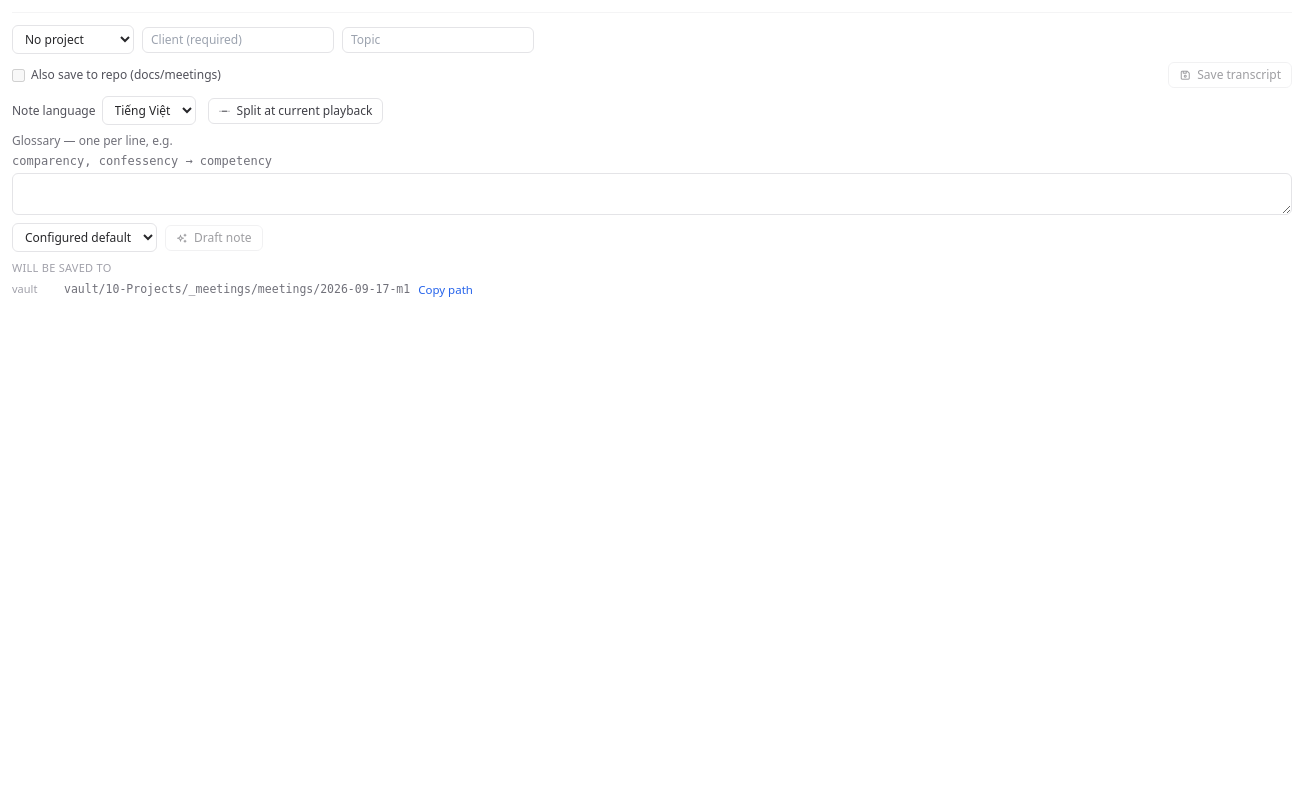
Test: AC-11 — defaults: Vietnamese, internal parts excluded, no parts › an untouched form drafts with language vi, includeInternal false and no parts
Select "Mantu · ABCV2" in the dropdown named "Project or workspace" at {"x": 73, "y": 40}, box [12, 25, 134, 54]
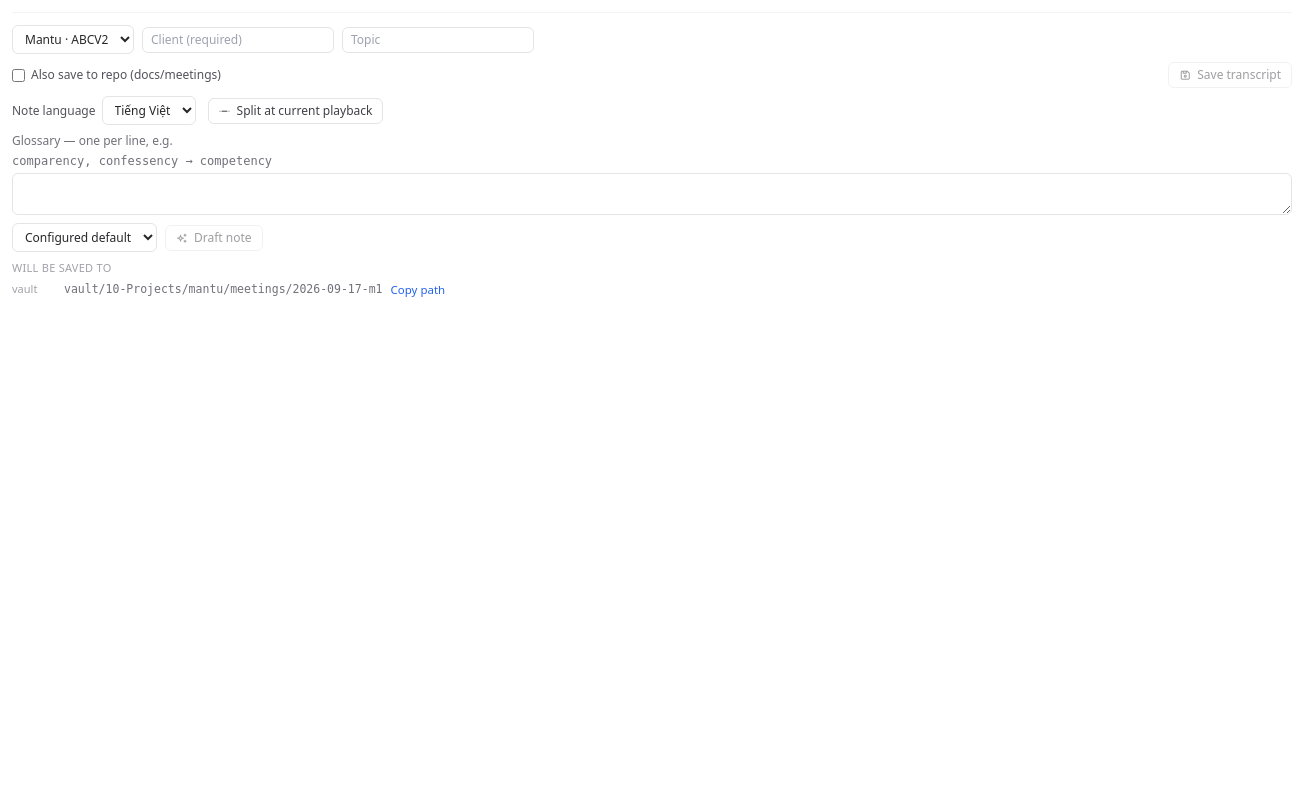
Type "Chị Kate" into the field labelled "Client".
click(238, 40); type("Chị Kate")  # box [142, 26, 334, 52]
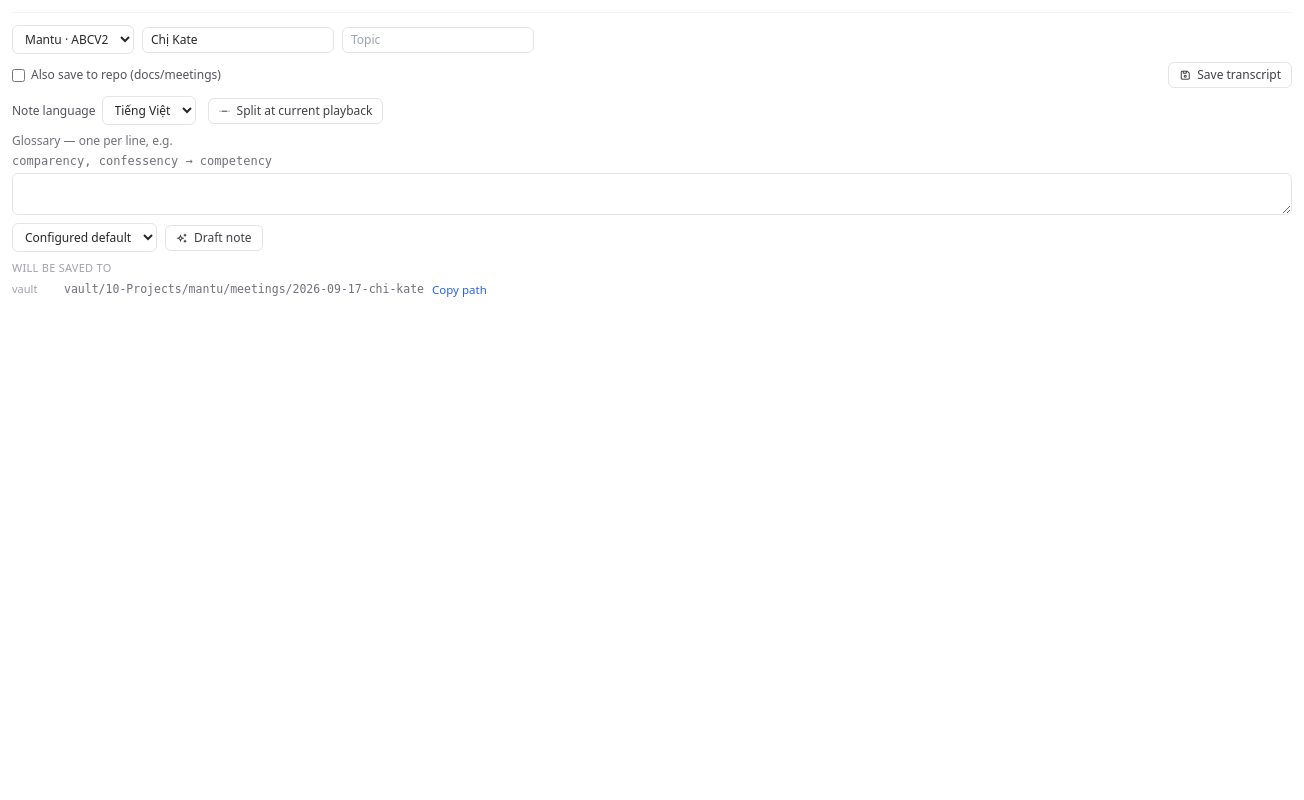
Click the button "Draft note".
click(214, 238)  # box [165, 224, 263, 250]
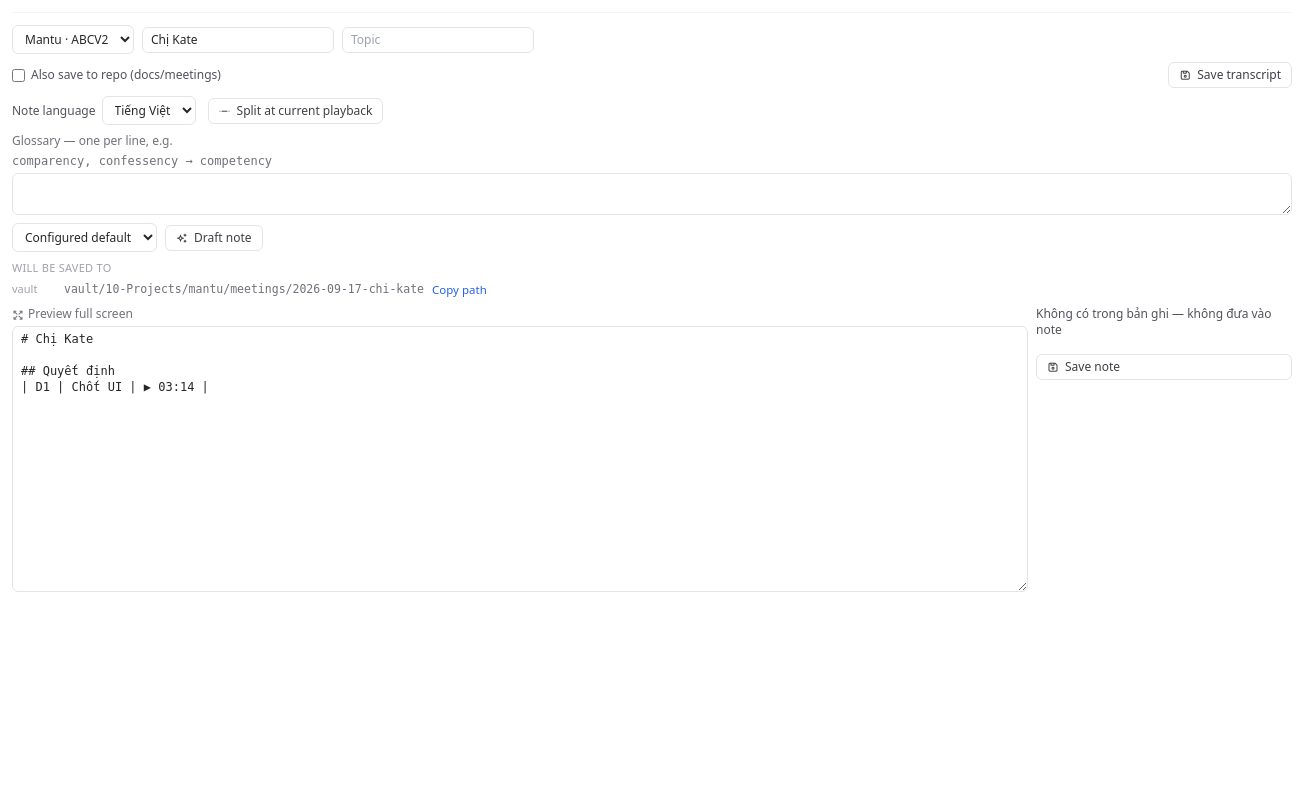
Now the text box named "Note draft" is shown, box [12, 326, 1028, 592]
